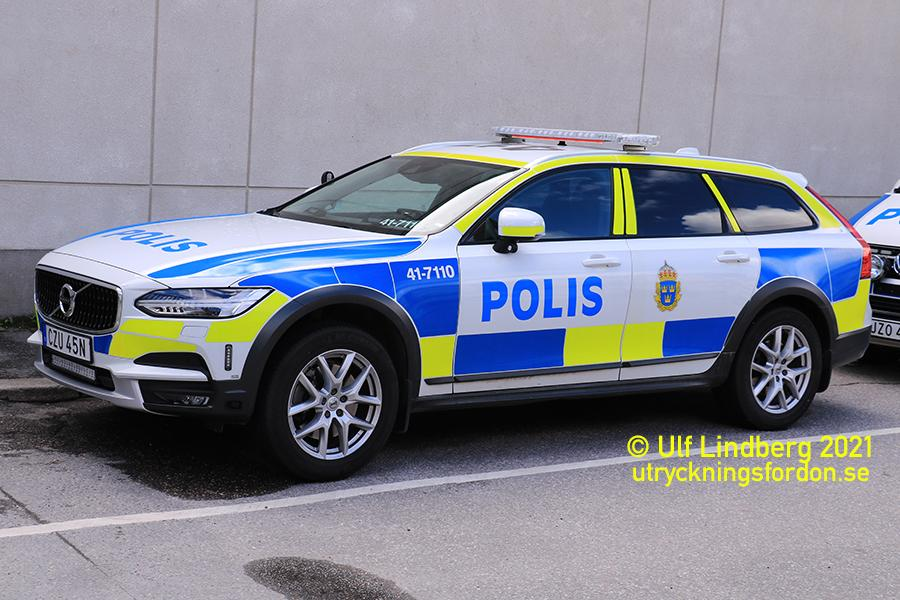license-plates: (39, 319, 94, 366)
